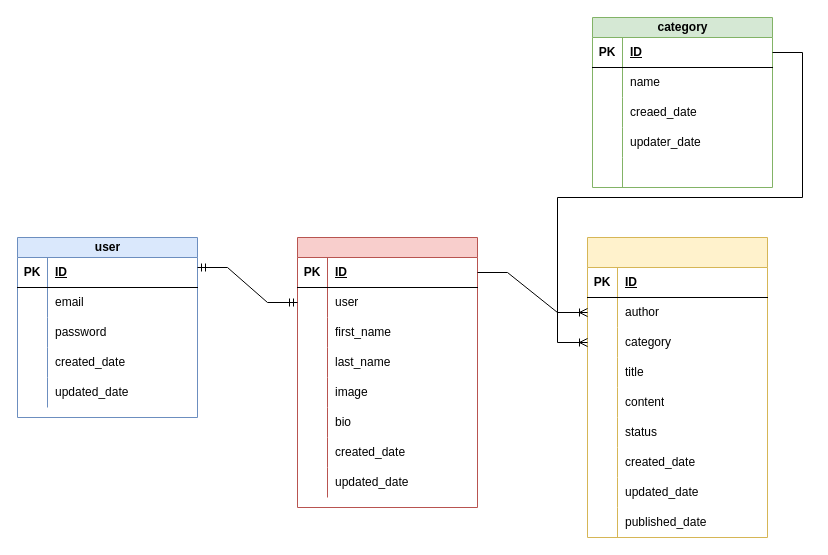
Some shapes in this 828 by 555 pixel diagram are drawn without their labels. Each missing label, with the box of its shape:
post: (586, 236, 768, 538)
profile: (296, 236, 478, 508)
